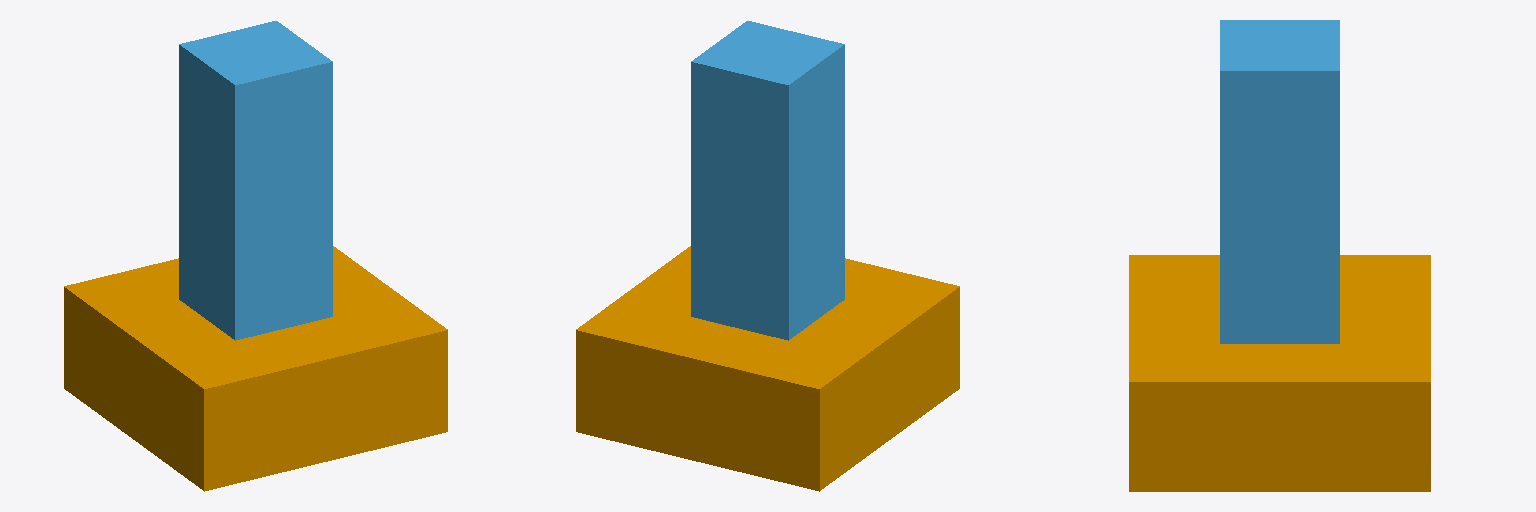
The robot description file, URDF, robot "demo1":
<?xml version="1.0"?>

<!-- root tag, a name should be specified for the robot model -->
<robot name="demo1">    									

<!-- link tag, a name should be specified for the link -->
<link name="link1">	

    <visual>	<!-- visual tag, visual properties of link 1: shape, pose -->
      <origin xyz="0 0 0.0" rpy="0 0 0" />
      <geometry>
         <box size="0.5 0.5 0.2" />
      </geometry>
    </visual>

    <collision>  <!-- collision tag, shape/pose of link 1 for collisions -->
      <origin xyz="0 0 0.0" rpy="0 0 0" />
      <geometry>
        <box size="0.5 0.5 0.2" />
      </geometry>
    </collision>
  </link>

  <link name="link2">
    <visual>
      <origin xyz="0.0 0.0 0.0" rpy="0 0 0" />
      <geometry>
		 <box size="0.2 0.2 0.5" />
      </geometry>
    </visual>
    <collision>
      <origin xyz="0.0 0.0 0" rpy="0 0 0" />
      <geometry>
	<box size="0.0004 0.004 0.0004" />
      </geometry>
    </collision>
  </link>

<!-- Define a joint between the two links , see http://wiki.ros.org/urdf/XML/joint for complete introduction of joint -->
<!-- Tags include: <origin> <parent> <child> <axis> <calibration> <dynamics> <limit> <mimic> <safety_controller>  -->
<!-- types: revolute, continuous, prismatic, fixed, floating, planar -->
  <joint name="joint_1_2" type="fixed">            
    
    <!-- origin: joint position expressed in body frame of parent link, this tag is optional: defaults to identity if not specified -->
    <origin xyz="0 0 0.35" rpy="0 0 0" />           
    
    <!-- required tag: parent link of the joint -->
    <parent link="link1"/>

    <!-- required tag: child link of the joint -->				
    <child link="link2" />
  </joint>


</robot>

--- Render facts (derived) ---
Views: 3 orthographic renders of the robot side by side, from view 1: azimuth 30°, elevation 25°; view 2: azimuth 150°, elevation 25°; view 3: azimuth 270°, elevation 25°.
Model demo1 with 2 links and 1 joints (1 fixed), rooted at link1, posed all joints at 0.
Links seen in each view (by area): view 1: link1, link2; view 2: link1, link2; view 3: link1, link2.
Link boxes in pixels (x1,y1,x2,y2): link1: (64,246,447,491); link2: (179,21,332,340); link1: (576,246,959,491); link2: (691,21,844,340); link1: (1129,255,1430,491); link2: (1220,20,1339,343).
Bounding box of the posed robot: 0.5 × 0.5 × 0.7 m (x, y, z).
Geometry: primitives only (box / cylinder / sphere), no mesh files.